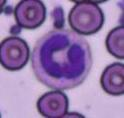N: (31, 30, 92, 90)
